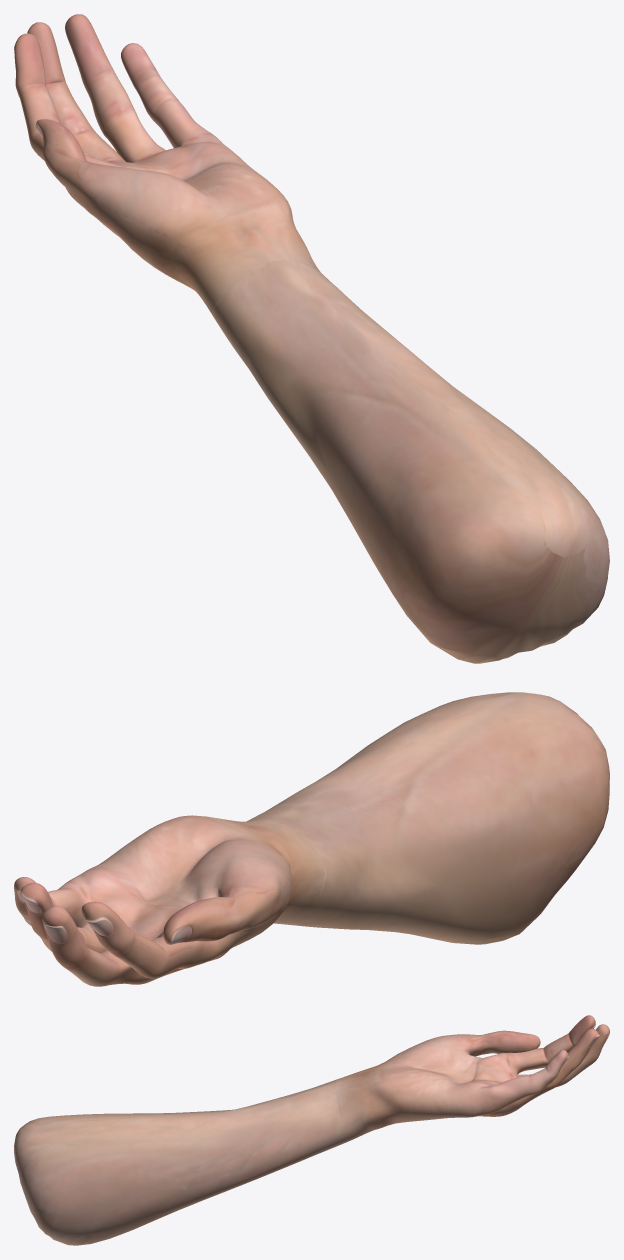
Rendered from cuppingHand.glb.
The picture shows the model from 3 angles, top to bottom: view 1: azimuth 30°, elevation 25°; view 2: azimuth 150°, elevation 25°; view 3: azimuth 270°, elevation 25°; orthographic projection. The views are drawn at different scales.
Visible parts, largest first — view 1: Shape_IndexedFaceSet001; view 2: Shape_IndexedFaceSet001; view 3: Shape_IndexedFaceSet001.
Boxes of the visible parts, x1,y1,x2,y2 form: Shape_IndexedFaceSet001: (14,14,609,663); Shape_IndexedFaceSet001: (14,692,609,986); Shape_IndexedFaceSet001: (14,1015,609,1245).
Bounding box in the file's own units: 0.5222 × 0.8463 × 2.16.
1 material, 1 textured.
